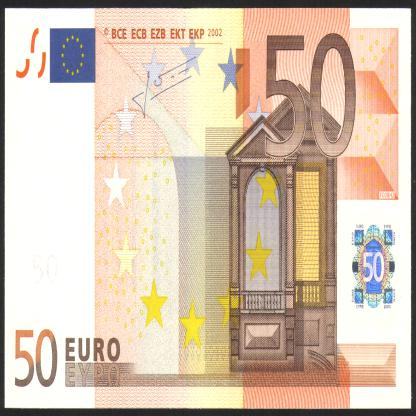euro_banknote: (6, 9, 412, 408)
